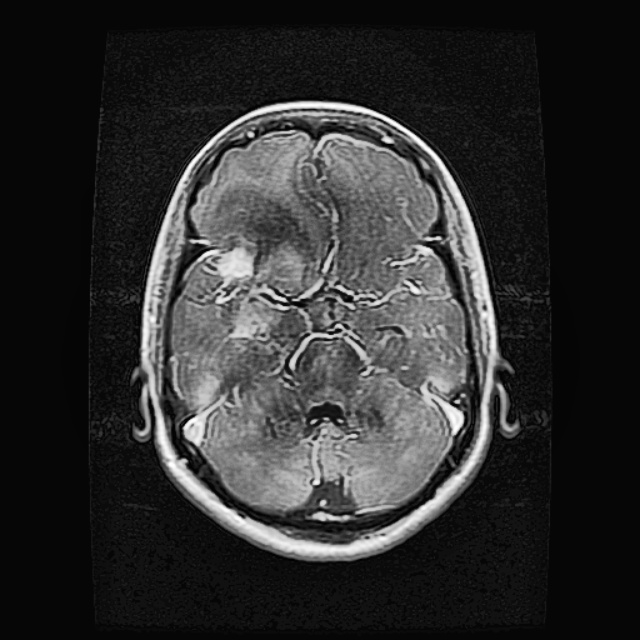Glioma: (208, 240, 307, 340)
